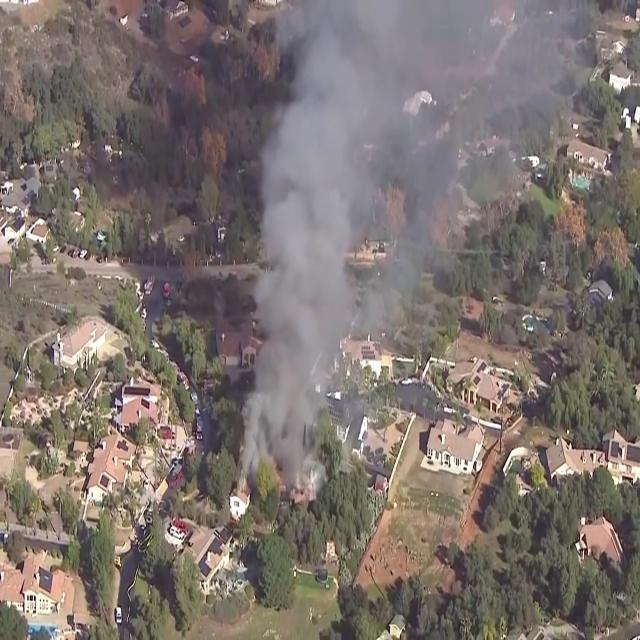Smoke: (238, 0, 458, 483)
